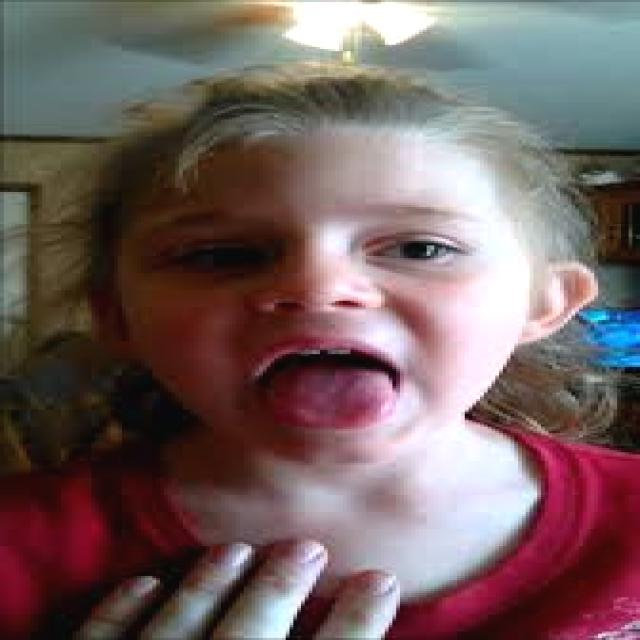normal_face: (87, 84, 573, 474)
